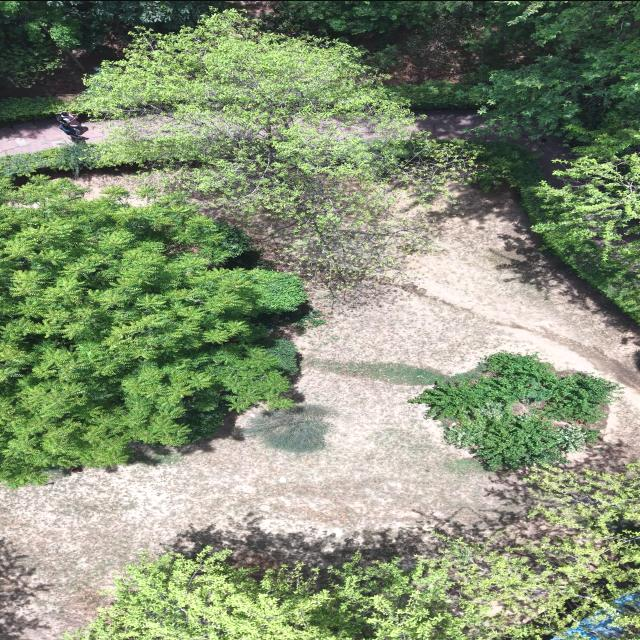DRY_AREA: (0, 186, 639, 639), (299, 187, 639, 446), (409, 109, 573, 186), (411, 109, 573, 185), (415, 109, 573, 185), (413, 109, 571, 176), (0, 39, 122, 98), (0, 39, 123, 97), (413, 110, 543, 150), (36, 167, 165, 205), (77, 115, 242, 142), (78, 115, 241, 142), (78, 115, 213, 142), (415, 109, 514, 139), (415, 109, 500, 139), (0, 117, 68, 154), (232, 1, 276, 16)
PATHWAYS: (414, 109, 570, 182)
VEGETATION_TREE: (0, 1, 639, 319), (17, 1, 639, 318), (79, 1, 639, 319), (2, 10, 471, 287), (278, 1, 639, 319), (68, 465, 639, 639), (72, 464, 639, 639), (0, 178, 311, 485), (394, 1, 639, 318), (263, 1, 639, 140), (278, 1, 639, 142), (182, 124, 473, 290), (76, 10, 407, 129), (428, 464, 639, 639), (71, 549, 466, 639), (398, 1, 639, 143), (466, 132, 639, 320), (410, 352, 620, 469), (509, 463, 639, 639), (531, 153, 639, 319), (0, 1, 206, 85), (263, 1, 473, 82), (0, 1, 99, 85), (277, 1, 462, 38), (45, 1, 222, 26), (243, 404, 333, 452), (313, 359, 483, 384), (261, 338, 300, 374)
